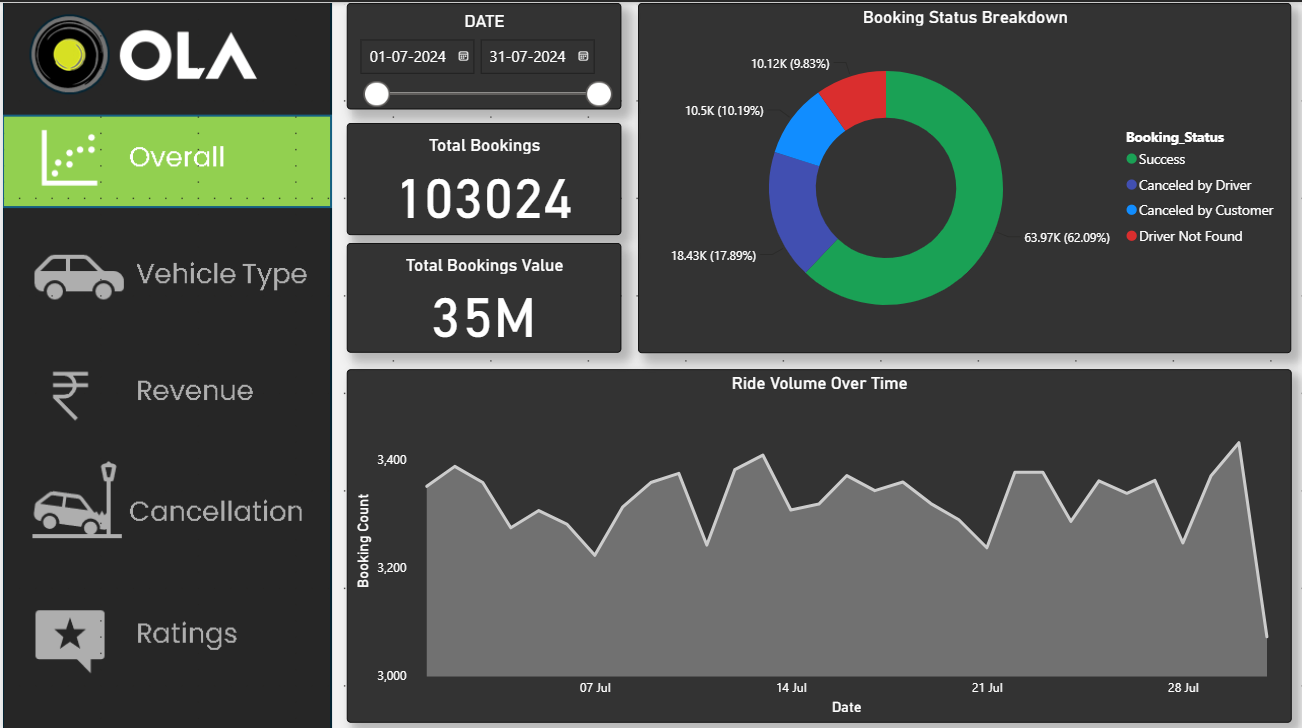

This screenshot's page, from the dashboard's own definition file:
{"tool":"powerbi","page":{"name":"Overall","canvas":[1280,720],"ordinal":0},"visuals":[{"type":"actionButton","box":[0,221.1,324.6,87.9],"z":0},{"type":"actionButton","box":[0,344.4,324.6,87.9],"z":1000},{"type":"actionButton","box":[0,452.1,324.6,87.9],"z":2000},{"type":"actionButton","box":[0,583.9,324.6,87.9],"z":3000},{"type":"stackedAreaChart","title":"Ride Volume Over Time","fields":{"Category":["July.Date"],"Y":["CountNonNull(July.Booking_ID)"]},"box":[338.3,360,930,348.3],"z":4000},{"type":"donutChart","title":"Booking Status Breakdown","fields":{"Category":["July.Booking_Status"],"Y":["CountNonNull(July.Booking_Status)"]},"box":[625,0,643.3,345],"z":5000},{"type":"slicer","title":"DATE","fields":{"Values":["July.Date"]},"box":[338.3,0,270,105],"z":6000},{"type":"card","title":"Total Bookings","fields":{"Values":["CountNonNull(July.Booking_ID)"]},"box":[338.3,118.3,270,110],"z":7000},{"type":"card","title":"Total Bookings Value","fields":{"Values":["Sum(July.Booking_Value)"]},"box":[338.3,236.7,270,108.3],"z":8000}]}

Visuals, with their boxes in screenshot pixels (x1, y1, x2, y2), scaled from the page's 1280x720 canvas onto the 1302x728 screenshot:
actionButton: box(0, 224, 330, 312)
actionButton: box(0, 348, 330, 437)
actionButton: box(0, 457, 330, 546)
actionButton: box(0, 590, 330, 679)
"Ride Volume Over Time" stackedAreaChart: box(344, 364, 1290, 716)
"Booking Status Breakdown" donutChart: box(636, 0, 1290, 349)
"DATE" slicer: box(344, 0, 619, 106)
"Total Bookings" card: box(344, 120, 619, 231)
"Total Bookings Value" card: box(344, 239, 619, 349)
